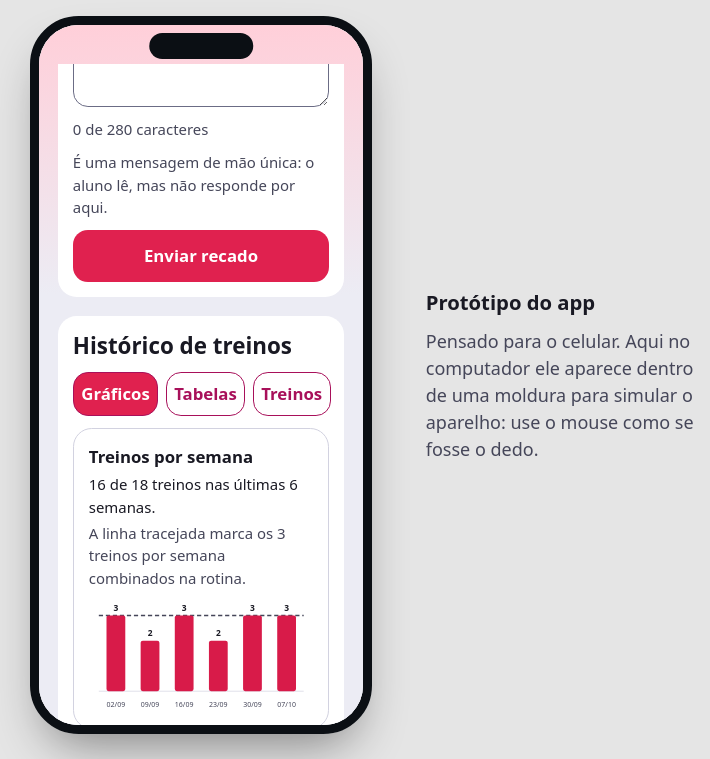
Scenario: histórico de treinos: gráficos, tabelas e treinos › troca de aba pelo clique e pelas setas do teclado
The image size is (710, 759).
(page scrolled)
Click the tab "Tabelas": point(206, 394) [166,372,245,416]
(page scrolled)
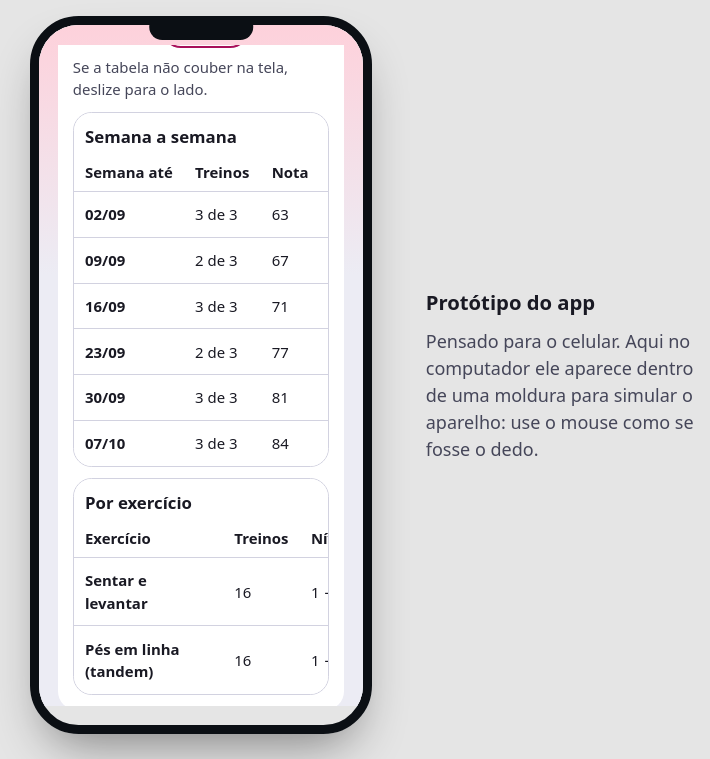
expect the panel named "Tabelas" is shown: met, box [73,56,329,694]
Press Arrowright
(page scrolled)
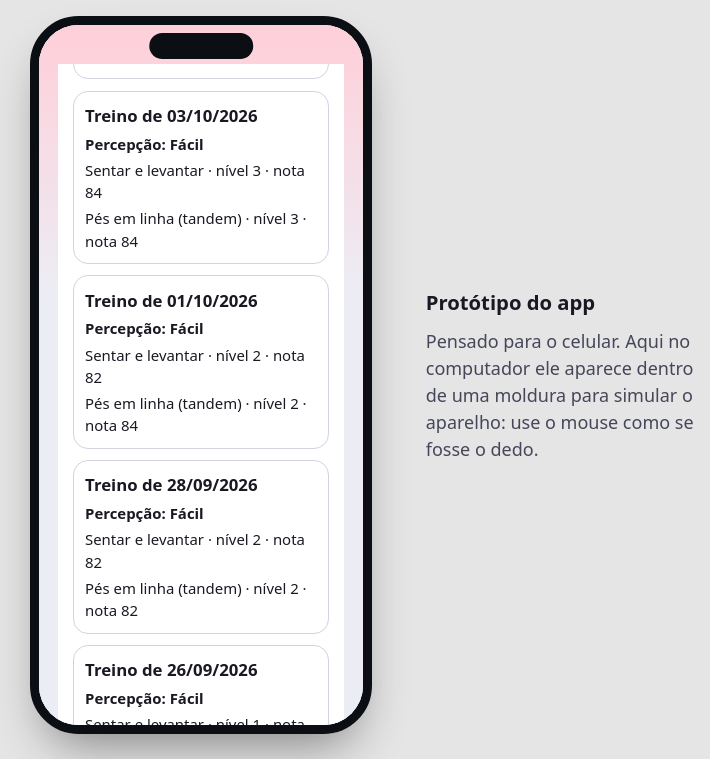
expect the panel named "Treinos" is shown: met, box [73,64,329,725]
expect the number of list items "Treino de " is 5: met
